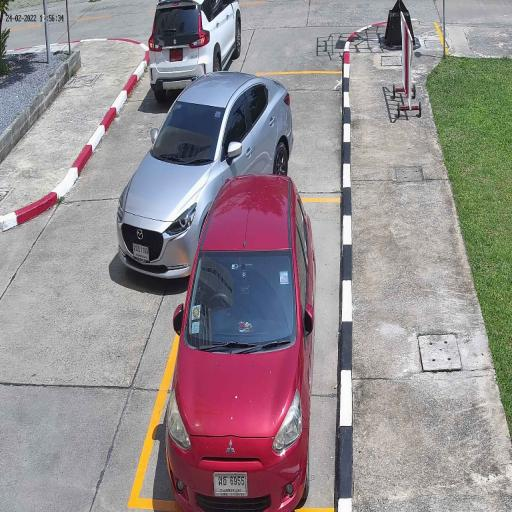car: (163, 173, 318, 512), (116, 71, 295, 286), (147, 0, 242, 105)
